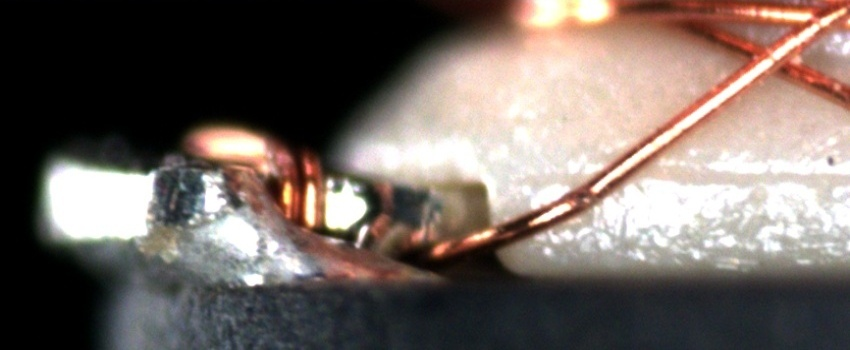CL: (729, 30, 817, 88)
DL: (610, 145, 849, 207)
TE: (186, 119, 334, 240)
